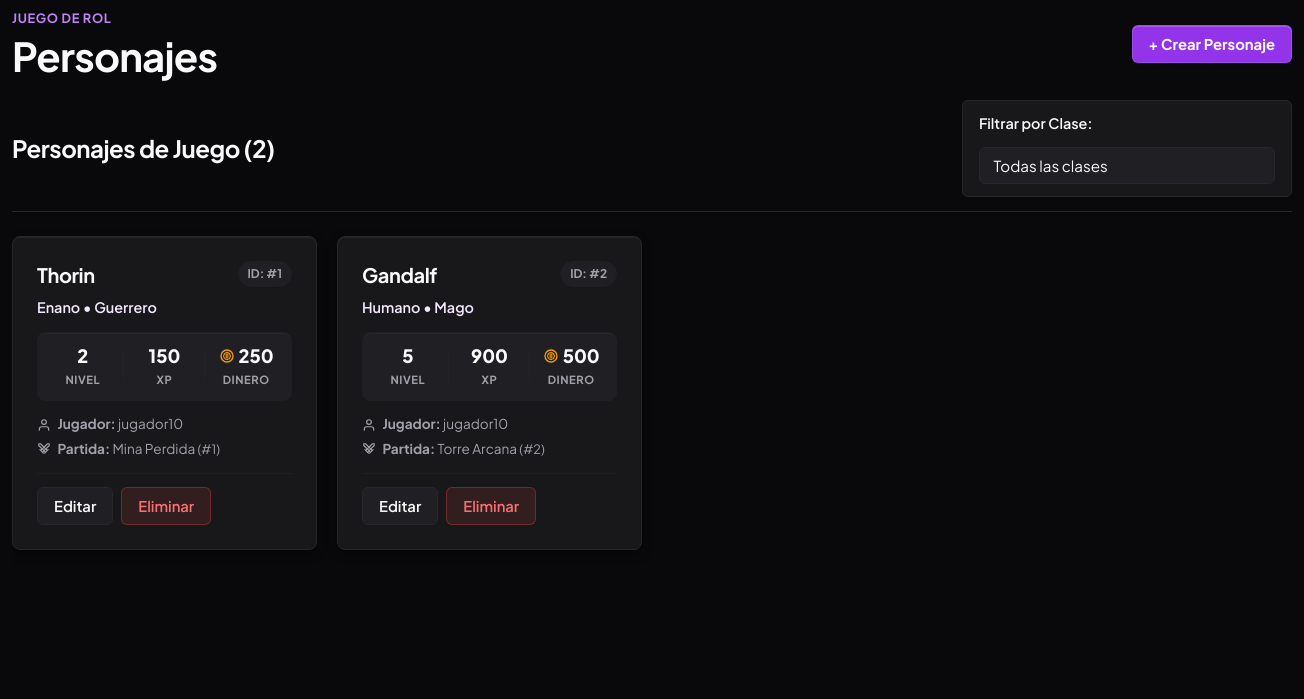
PersonajesPage › deselecciona y cierra la ficha de personaje al filtrar por una clase diferente
The image size is (1304, 699).
Seleccionamos Thorin (Guerrero, idClase: 1)
Click the heading "Thorin" at (66, 275), box [37,261,95,289]
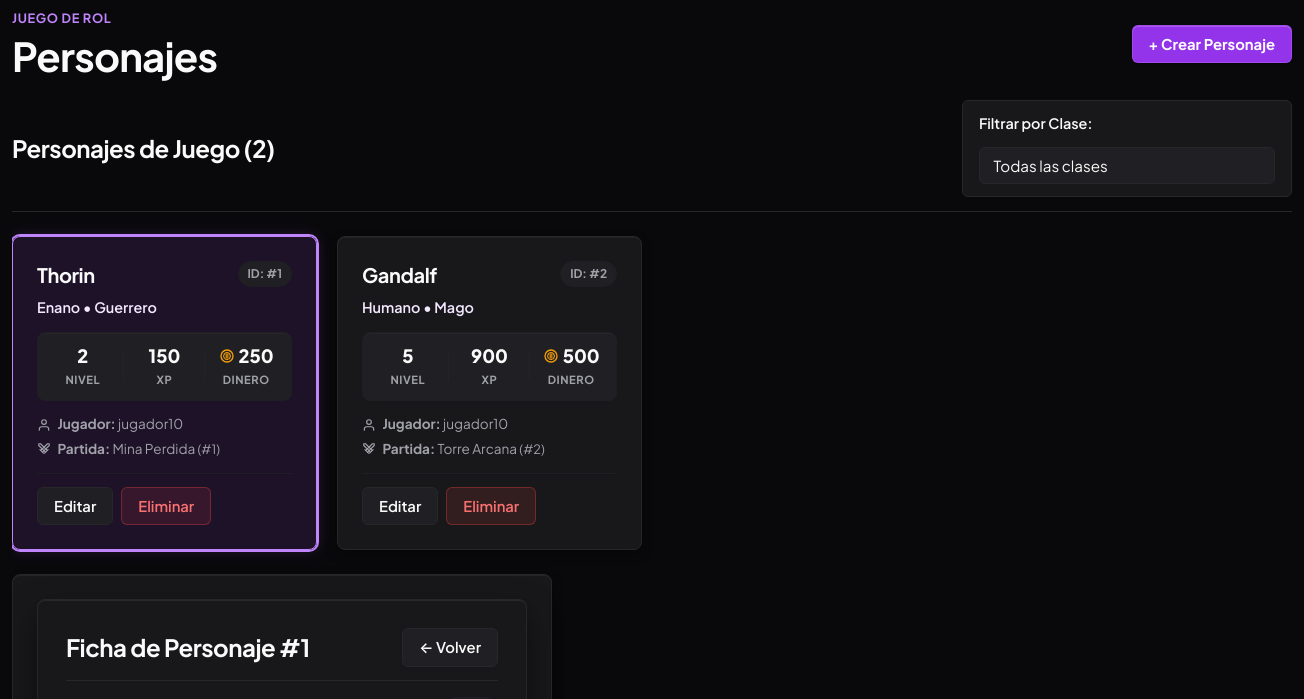
Check: the heading "Ficha de Personaje #1" is shown, box [66,632,310,663]
Filtramos por Mago (idClase: 2)
Select "Mago" in the dropdown labelled "Filtrar por Clase:" at (1127, 166), box [979,147,1275,184]
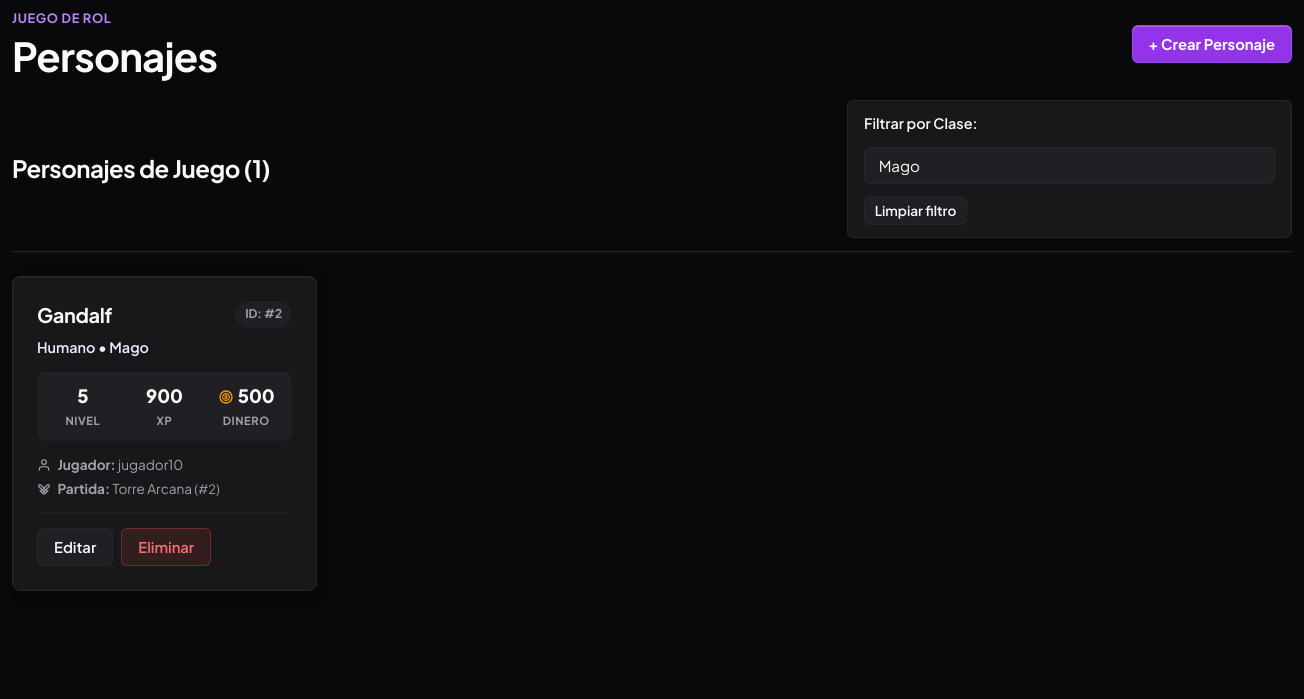
Check: the heading "Ficha de Personaje #1" is gone
